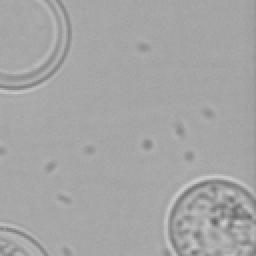picoshell: (164, 174, 254, 254), (0, 222, 46, 254)
